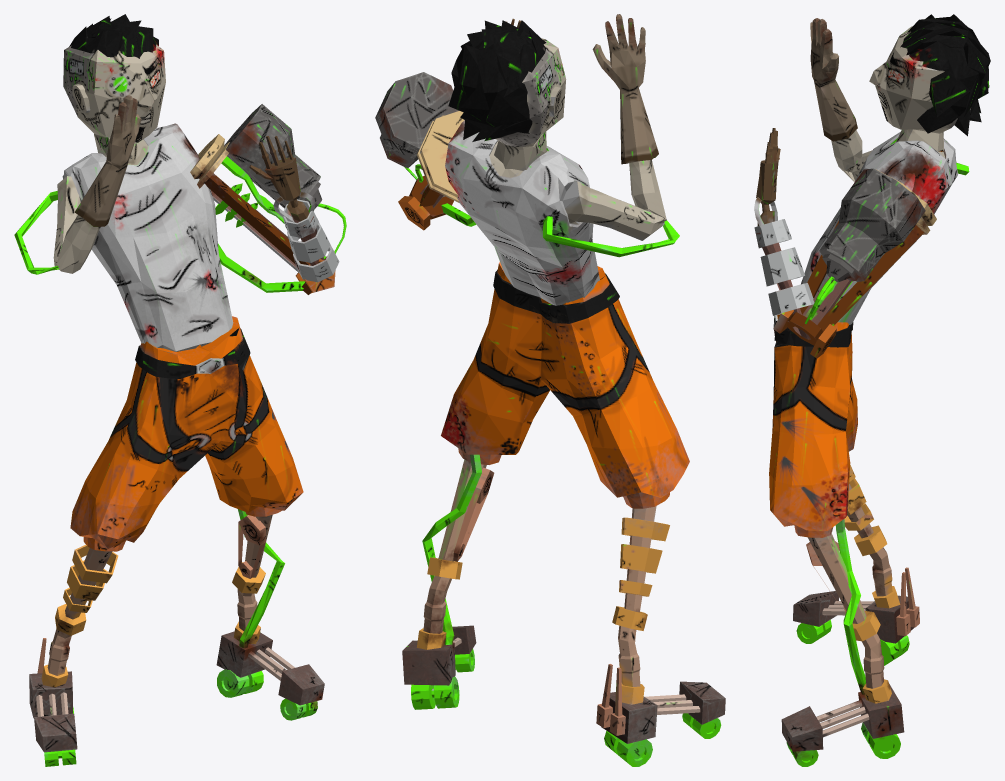
File: CyborgFINALAnimation_000019.obj
3 renders of one model, left to right at view 1: azimuth 30°, elevation 25°; view 2: azimuth 150°, elevation 25°; view 3: azimuth 270°, elevation 25°, orthographic. The views are drawn at different scales.
Visible parts, largest first — view 1: CyborgMesh_Cube.002; view 2: CyborgMesh_Cube.002; view 3: CyborgMesh_Cube.002.
Part boxes in pixels (x1,y1,x2,y2): CyborgMesh_Cube.002: [14, 14, 346, 766]; CyborgMesh_Cube.002: [375, 14, 725, 766]; CyborgMesh_Cube.002: [754, 14, 990, 766].
Bounding box in the file's own units: 4.38 × 9.22 × 2.89.
